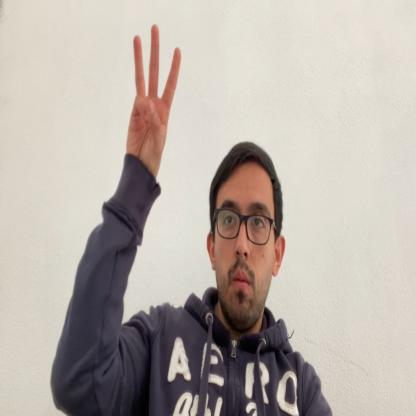W: (127, 22, 182, 159)
